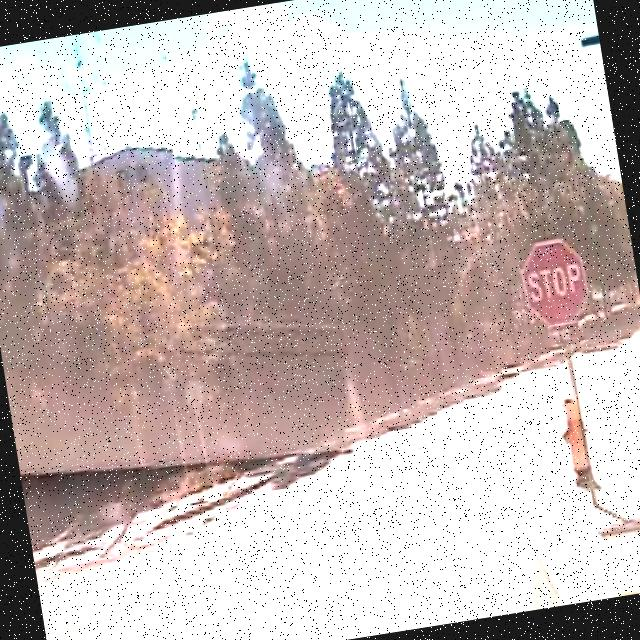Stop: (513, 234, 597, 335)
